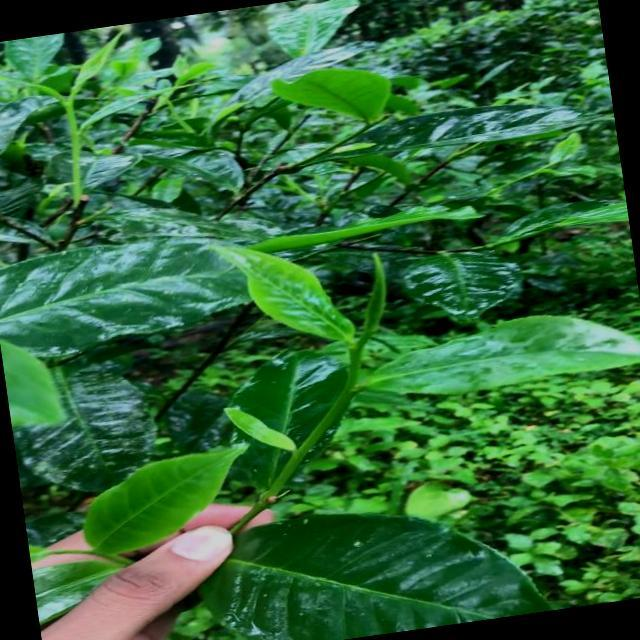Stem: (350, 348, 361, 360), (65, 103, 72, 111)
